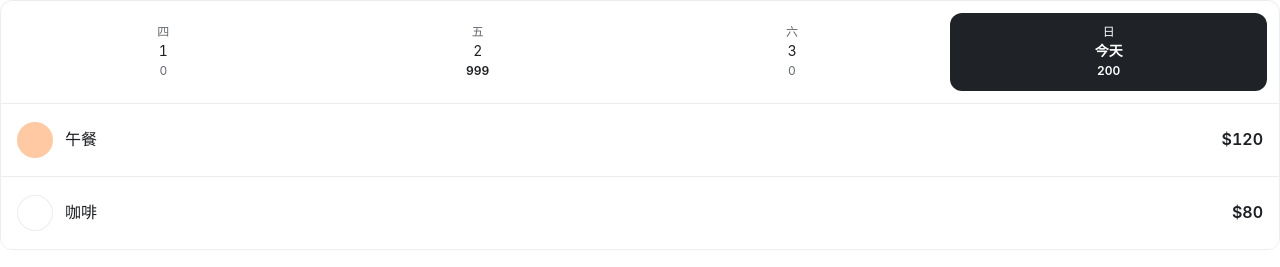
Test case: <ExpenseDayStrip /> › switches the list to the picked day
Click the button named "10/02" at (478, 52), box [322,13,634,91]
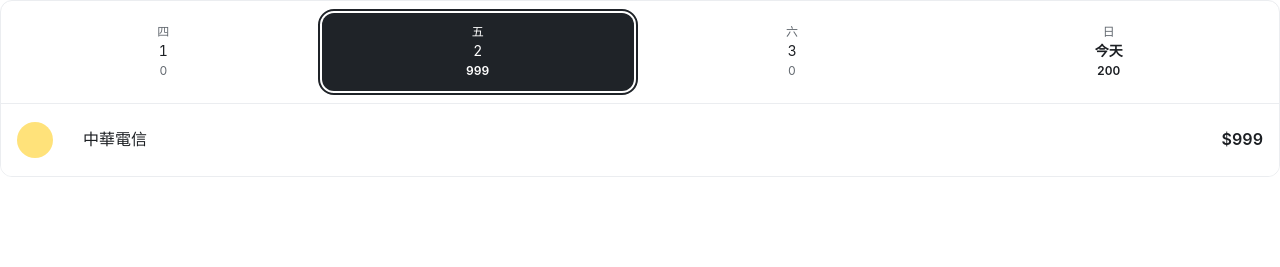
Check: the element named "10/02（五）" is shown, box [1,103,1279,176]
Check: the text "中華電信" is shown, box [83,130,147,149]
Check: the text "午餐" is gone
